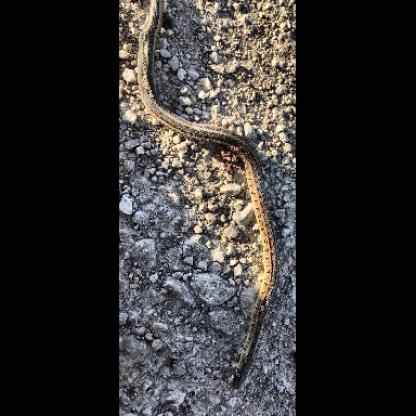Snake: (124, 13, 279, 408)
